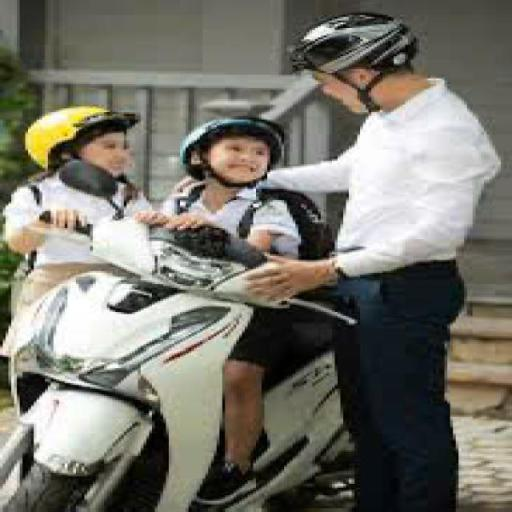with helmet: (278, 12, 424, 82), (182, 110, 286, 179), (25, 106, 140, 167)
